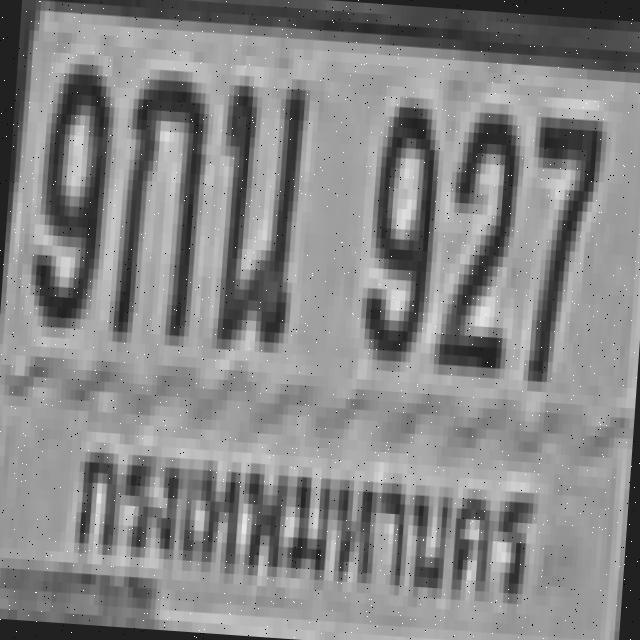10GorGai: (108, 58, 207, 336)
2: (434, 100, 518, 368)
34NorNu: (208, 69, 302, 338)
7: (518, 106, 598, 374)
9: (24, 51, 113, 319), (358, 85, 438, 352)
Bangkok: (52, 417, 544, 630)
